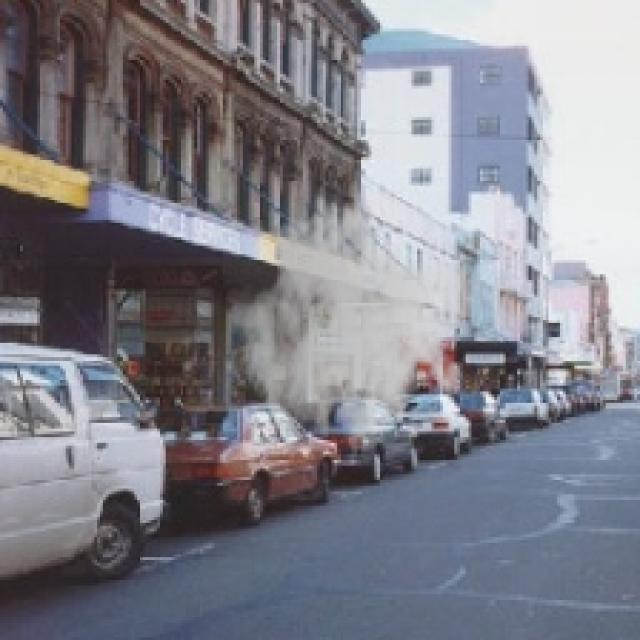Smoke: (240, 194, 474, 472)
